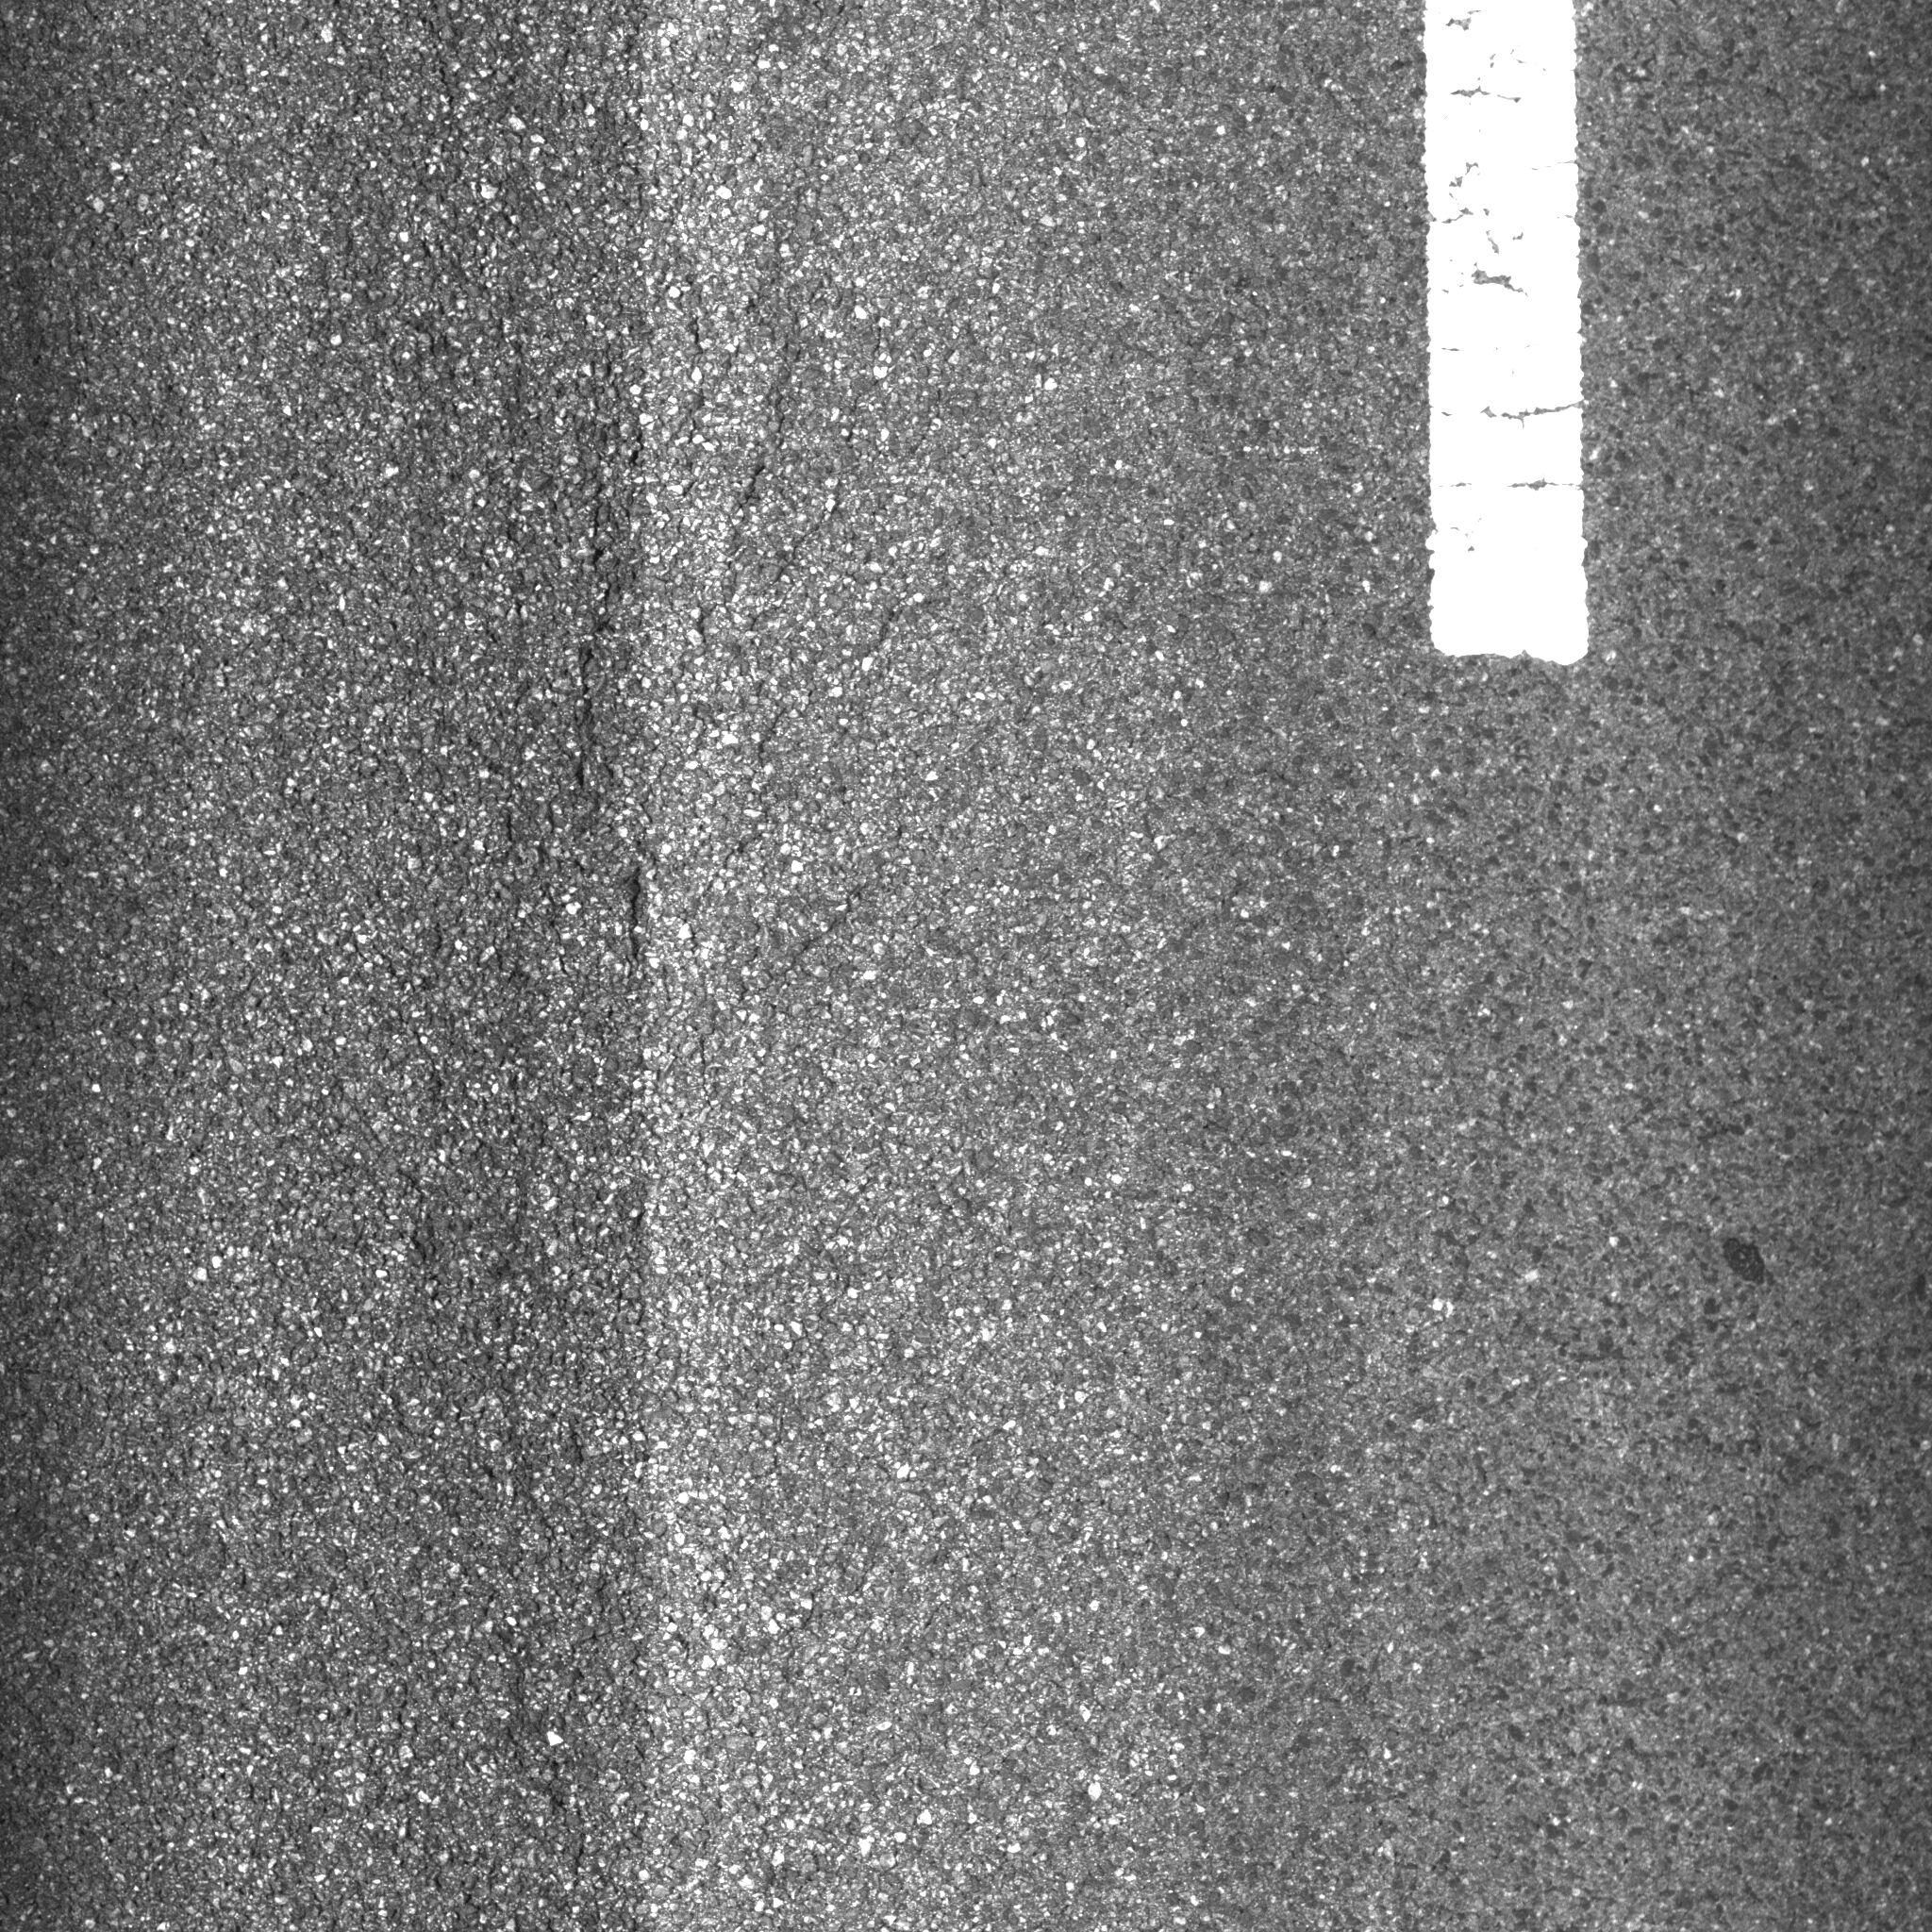alligator: (334, 2, 886, 1242)
